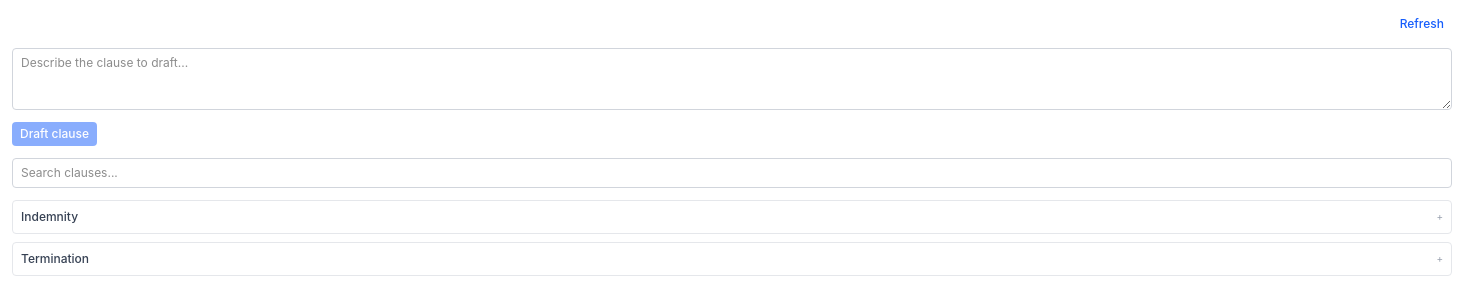
Test: ClausesPanel — paid tier › filters clauses by search text
Check: the text "Indemnity" is shown, box [21, 208, 78, 224]
Type "terminate" into the field with placeholder "Search clauses...".
click(732, 172); type("terminate")  # box [12, 158, 1452, 188]
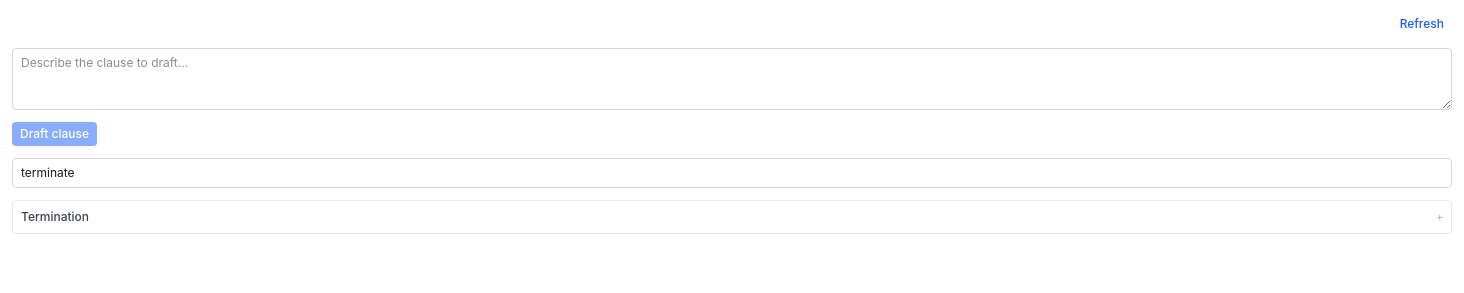
Check: the text "Termination" is shown, box [21, 208, 89, 224]
Check: the button "Indemnity" is gone
